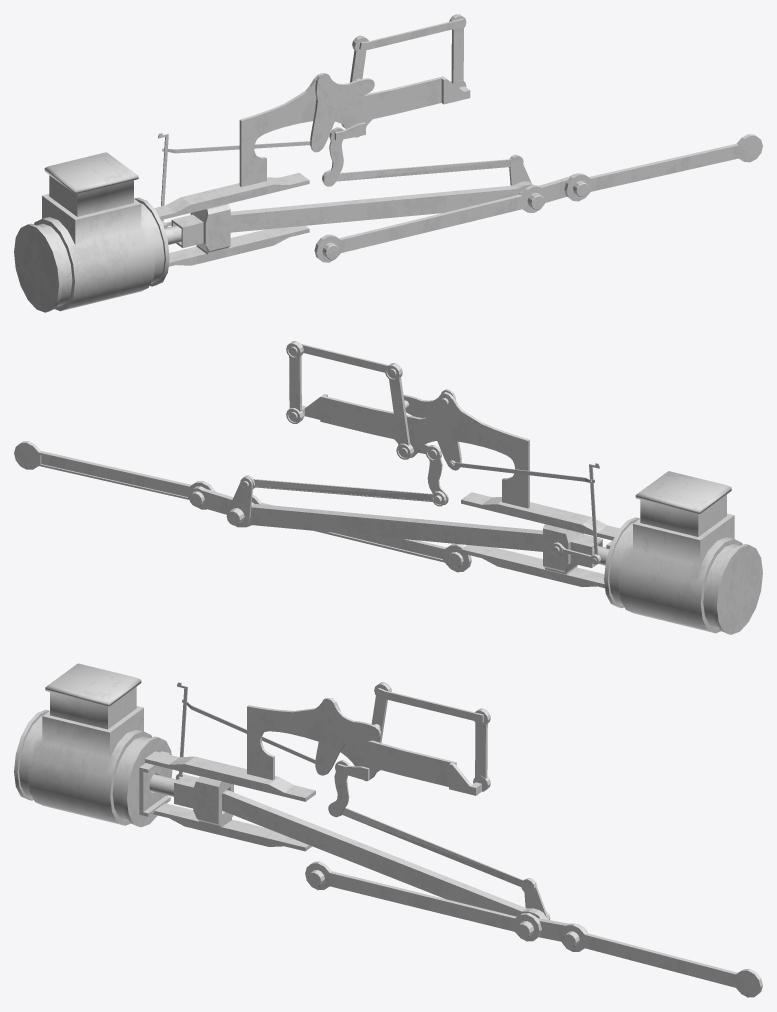
File: Steam Train WheelFrameR_A_001.fbx
3 views of the same model, one above another, from view 1: azimuth 30°, elevation 25°; view 2: azimuth 150°, elevation 25°; view 3: azimuth 330°, elevation 25° (orthographic). The views are drawn at different scales.
Parts seen in each view (by area): view 1: Steam_Train_WheelFrameR_A_001; view 2: Steam_Train_WheelFrameR_A_001; view 3: Steam_Train_WheelFrameR_A_001.
Part boxes in pixels (left/top/right/bottom): Steam_Train_WheelFrameR_A_001: left=14, top=14, right=762, bottom=312; Steam_Train_WheelFrameR_A_001: left=14, top=341, right=762, bottom=634; Steam_Train_WheelFrameR_A_001: left=14, top=663, right=762, bottom=997.
Bounding box in the file's own units: 417 × 114 × 47.65.
2 materials, 2 textured.
